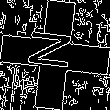N_E: (27, 32, 83, 78)
